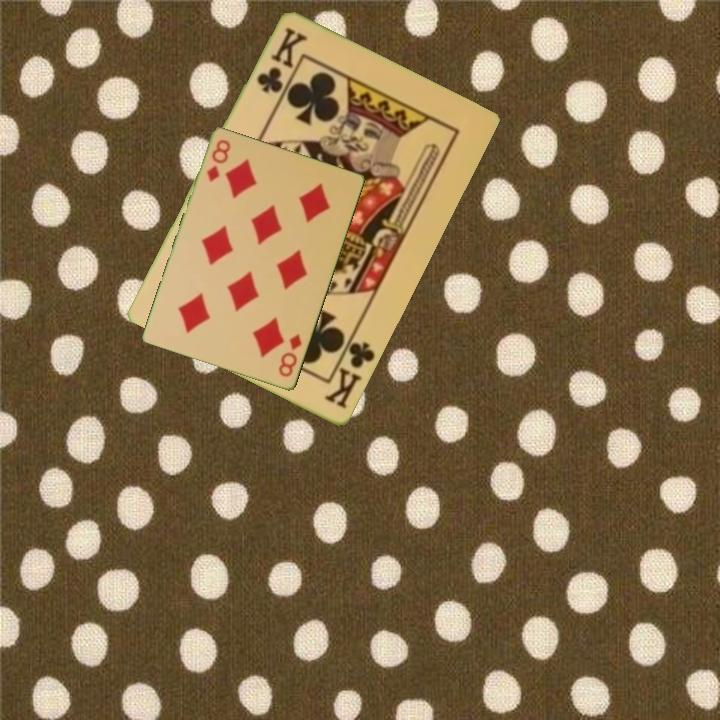8d: (203, 136, 234, 185), (275, 331, 305, 380)
Kc: (321, 330, 379, 412), (253, 24, 309, 97)
